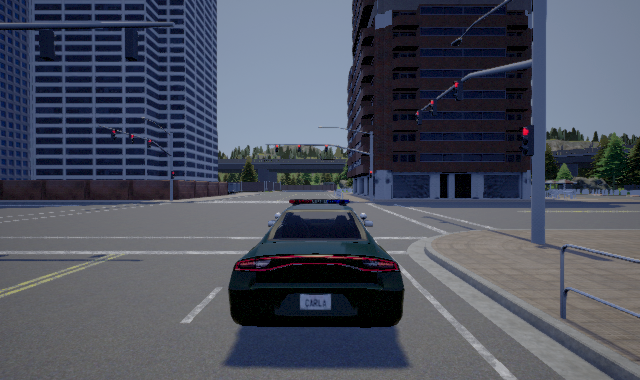traffic_light: (519, 125, 534, 156), (452, 80, 463, 101), (429, 99, 437, 116), (415, 110, 422, 125), (111, 129, 117, 140), (129, 134, 134, 144), (147, 139, 152, 148), (171, 171, 175, 179), (369, 171, 372, 178), (325, 145, 328, 152), (298, 145, 301, 152), (275, 145, 278, 152)
vehicle: (228, 199, 405, 328)
